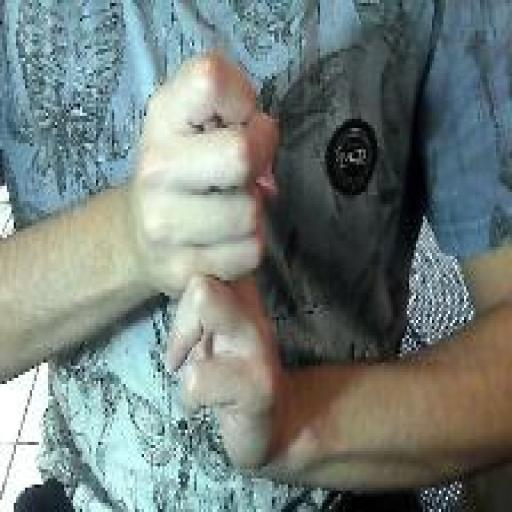Ne -rat-: (128, 48, 283, 482)
